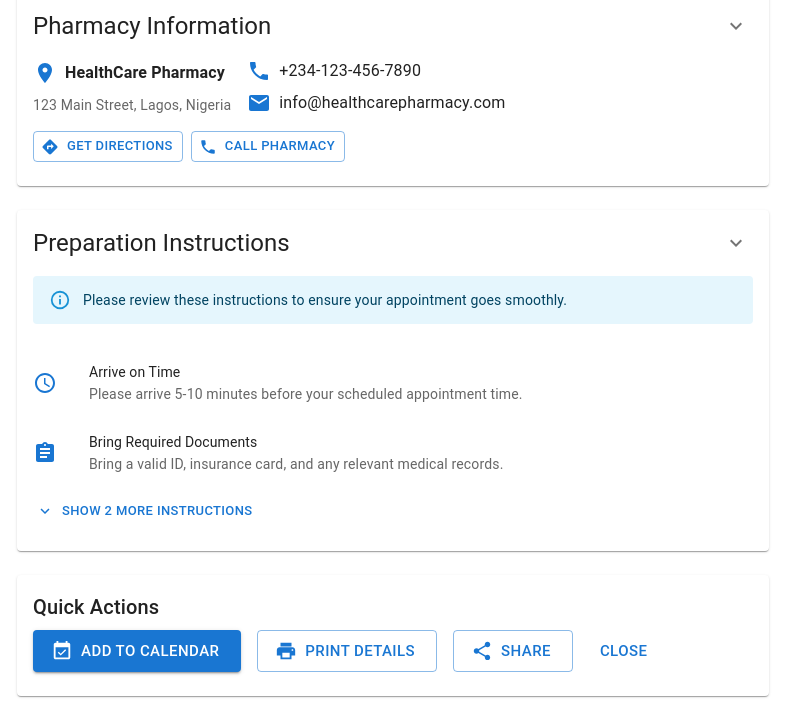
it: AppointmentConfirmation › Appointment Type Specific Instructions › shows health check instructions for health check appointments
The image size is (787, 705).
(page scrolled)
// Need to expand to see all instructions
Step 1. Click the button "Show 2 more instructions" → (145, 511), box [33, 496, 258, 527]
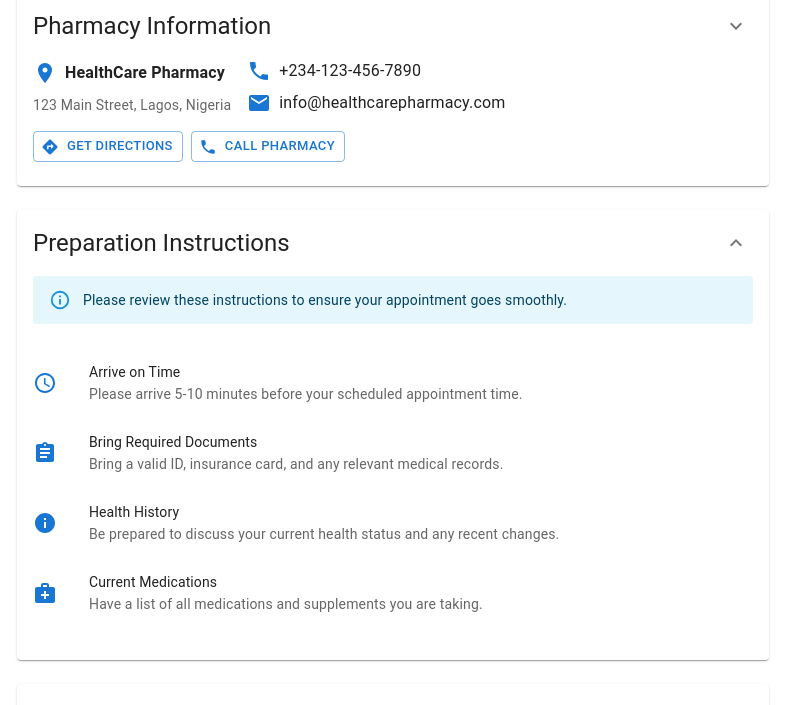
Result: the heading "Health History" is shown at [89, 504, 179, 520]
Result: the heading "Current Medications" is shown at [89, 574, 217, 590]
